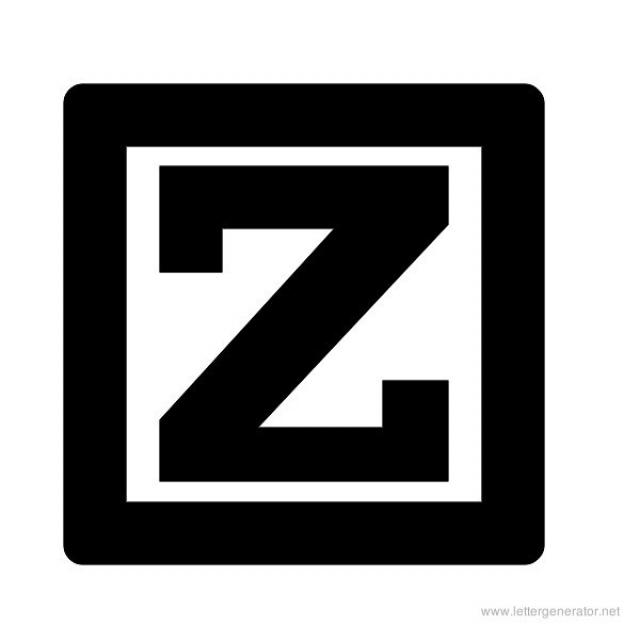Z: (140, 158, 468, 494)
